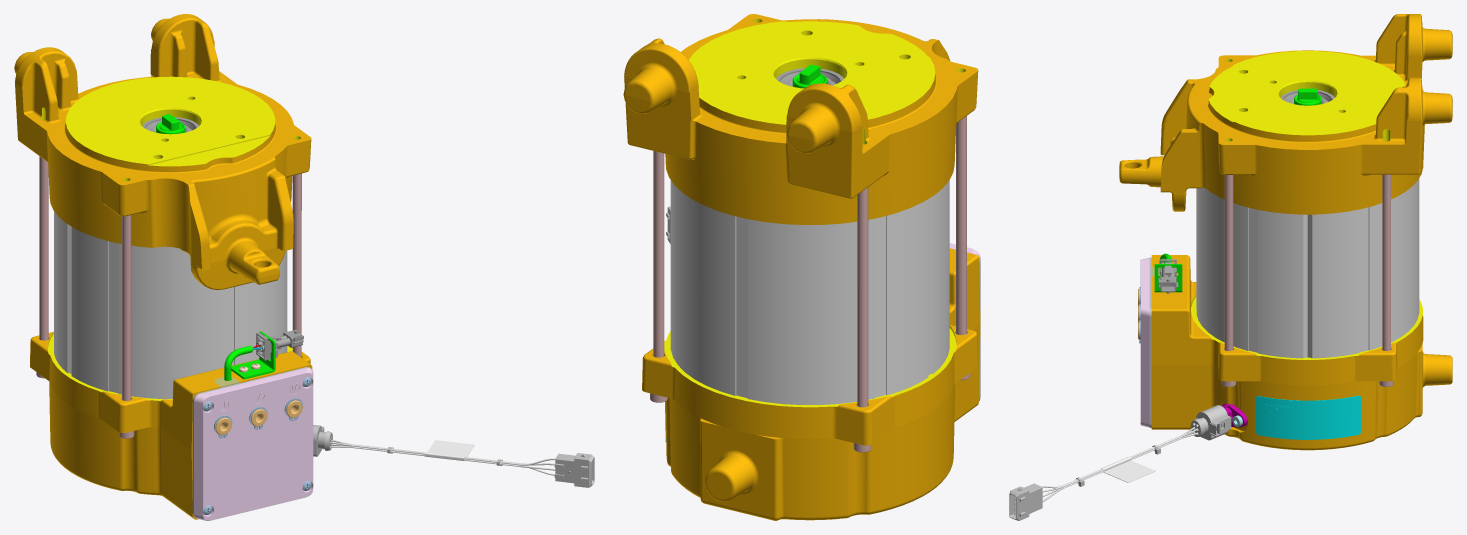
The picture shows the model from 3 angles, left to right: view 1: azimuth 30°, elevation 25°; view 2: azimuth 150°, elevation 25°; view 3: azimuth 270°, elevation 25°; orthographic projection. The views are drawn at different scales.
Parts seen in each view (by area): view 1: (00001620) 2004149/d - Štít pohonu, (00001270) 2002405/d - Stator, (00003625) 3026132/c - Štít ložiskový, (00004470) 4010014/i - Část vývodky, MODEL (×3), (00027559) 35010352/- - Redukce KOMBI - BERU, (00027563) 35010352_002/- - Konektor, (00005318) 5513011/- - KONEKTOR, (00006234) 6007026/a - Držák; view 2: (00001620) 2004149/d - Štít pohonu, (00001270) 2002405/d - Stator, (00003625) 3026132/c - Štít ložiskový, MODEL (×4), (00002943) 3003357/d - Hřídel; view 3: (00001620) 2004149/d - Štít pohonu, (00001270) 2002405/d - Stator, (00003625) 3026132/c - Štít ložiskový, (00005747) 5519695/e - Typový štítek, MODEL (×2), (00004470) 4010014/i - Část vývodky, (00027559) 35010352/- - Redukce KOMBI - BERU, (00027562) 35010352_001/- - Konektor, (00027563) 35010352_002/- - Konektor, (00005318) 5513011/- - KONEKTOR, (00005211) 5051005/b - Těsnění svorkovnice.
Boxes of the visible parts, x1,y1,x2,y2 form: (00001620) 2004149/d - Štít pohonu: (14,14,311,289); (00001270) 2002405/d - Stator: (54,211,287,399); (00003625) 3026132/c - Štít ložiskový: (30,331,312,519); (00004470) 4010014/i - Část vývodky: (194,368,313,520); MODEL (×3): (36,156,301,438); (00027559) 35010352/- - Redukce KOMBI - BERU: (330,439,555,475); (00027563) 35010352_002/- - Konektor: (554,453,594,487); (00005318) 5513011/- - KONEKTOR: (256,330,303,360); (00006234) 6007026/a - Držák: (231,331,275,379); (00001620) 2004149/d - Štít pohonu: (623,14,978,224); (00001270) 2002405/d - Stator: (670,180,949,404); (00003625) 3026132/c - Štít ložiskový: (642,248,980,520); MODEL (×4): (650,68,970,452); (00002943) 3003357/d - Hřídel: (792,64,827,88); (00001620) 2004149/d - Štít pohonu: (1119,14,1452,214); (00001270) 2002405/d - Stator: (1196,178,1419,358); (00003625) 3026132/c - Štít ložiskový: (1151,255,1452,450); (00005747) 5519695/e - Typový štítek: (1256,395,1361,439); MODEL (×2): (1221,174,1393,387); (00004470) 4010014/i - Část vývodky: (1140,257,1149,427); (00027559) 35010352/- - Redukce KOMBI - BERU: (1041,427,1198,501); (00027562) 35010352_001/- - Konektor: (1190,405,1231,440); (00027563) 35010352_002/- - Konektor: (1009,483,1042,520); (00005318) 5513011/- - KONEKTOR: (1158,259,1178,293); (00005211) 5051005/b - Těsnění svorkovnice: (1149,257,1151,427).
Size of the model in its own units: 0.3739 by 0.351 by 0.3978.
